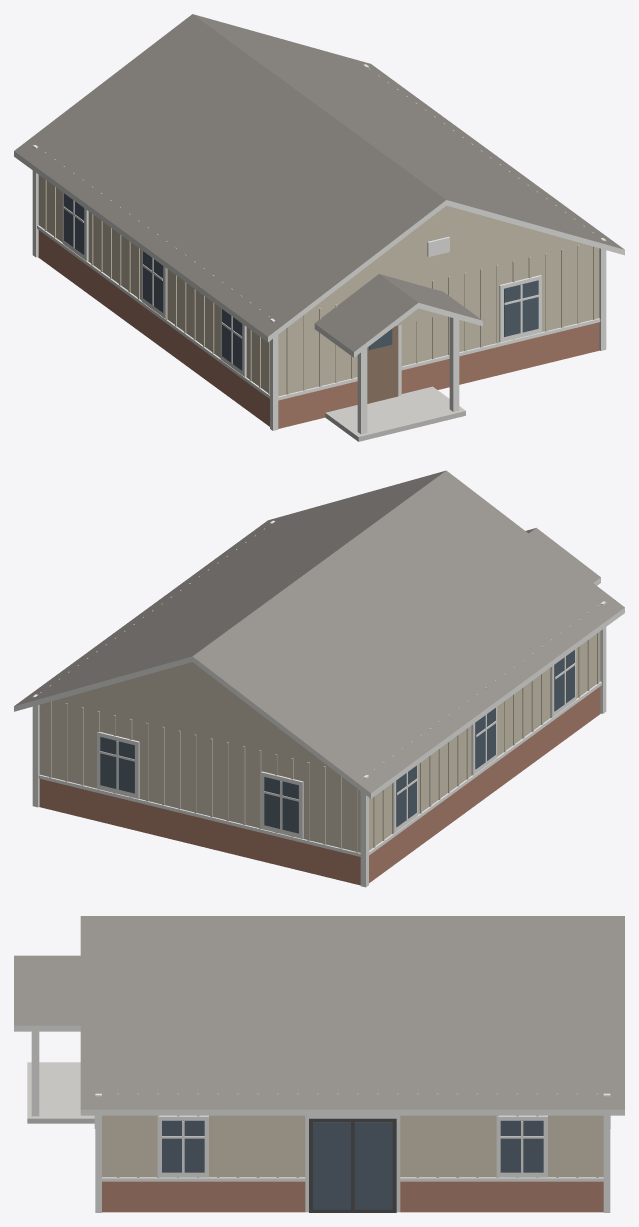
Rendered from delta-craftsman.glb.
The picture shows the model from 3 angles, top to bottom: view 1: azimuth 30°, elevation 25°; view 2: azimuth 150°, elevation 25°; view 3: azimuth 270°, elevation 25°; orthographic projection. The views are drawn at different scales.
Parts seen in each view (by area): view 1: The Delta (craftsman); view 2: The Delta (craftsman); view 3: The Delta (craftsman).
Part boxes in pixels (box(x1,y1,x2,y2)): The Delta (craftsman): box(14, 14, 624, 441); The Delta (craftsman): box(14, 470, 624, 887); The Delta (craftsman): box(14, 916, 624, 1212).
Size of the model in its own units: 9.29 by 4.88 by 12.85.
